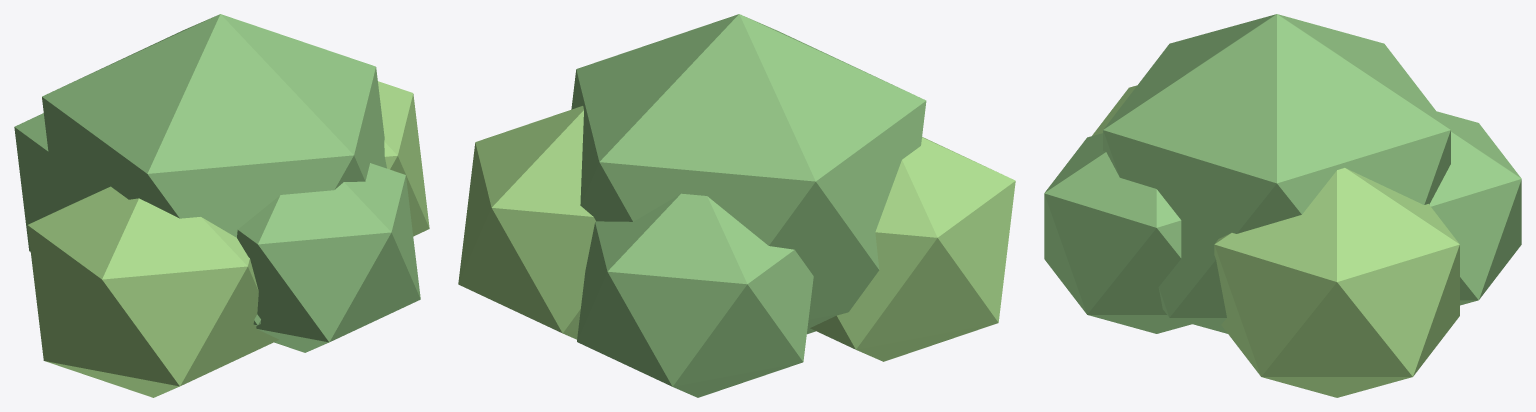
Rendered from bush.glb.
3 renders of one model, left to right at view 1: azimuth 30°, elevation 25°; view 2: azimuth 150°, elevation 25°; view 3: azimuth 270°, elevation 25°, orthographic. The views are drawn at different scales.
Parts seen in each view (by area): view 1: Bush; view 2: Bush; view 3: Bush.
Part boxes in pixels (left/top/right/bottom): Bush: left=14, top=14, right=429, bottom=397; Bush: left=458, top=14, right=1015, bottom=397; Bush: left=1044, top=14, right=1521, bottom=397.
Size of the model in its own units: 0.8493 by 0.622 by 0.7943.
